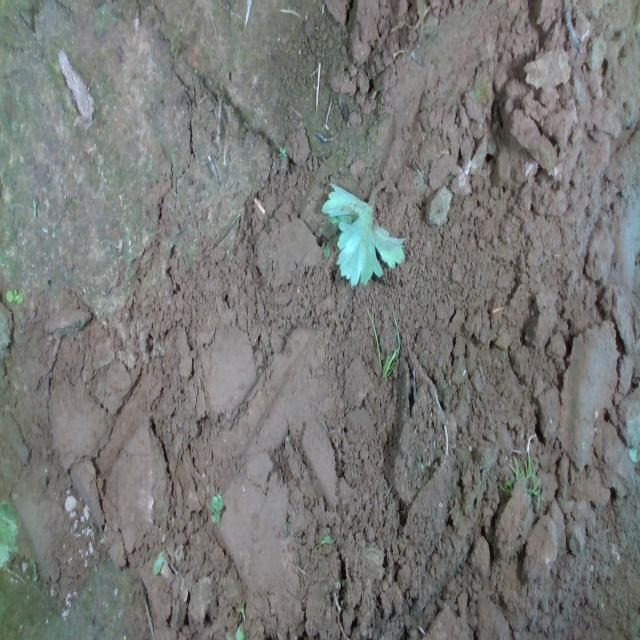weed: (7, 279, 30, 313)
